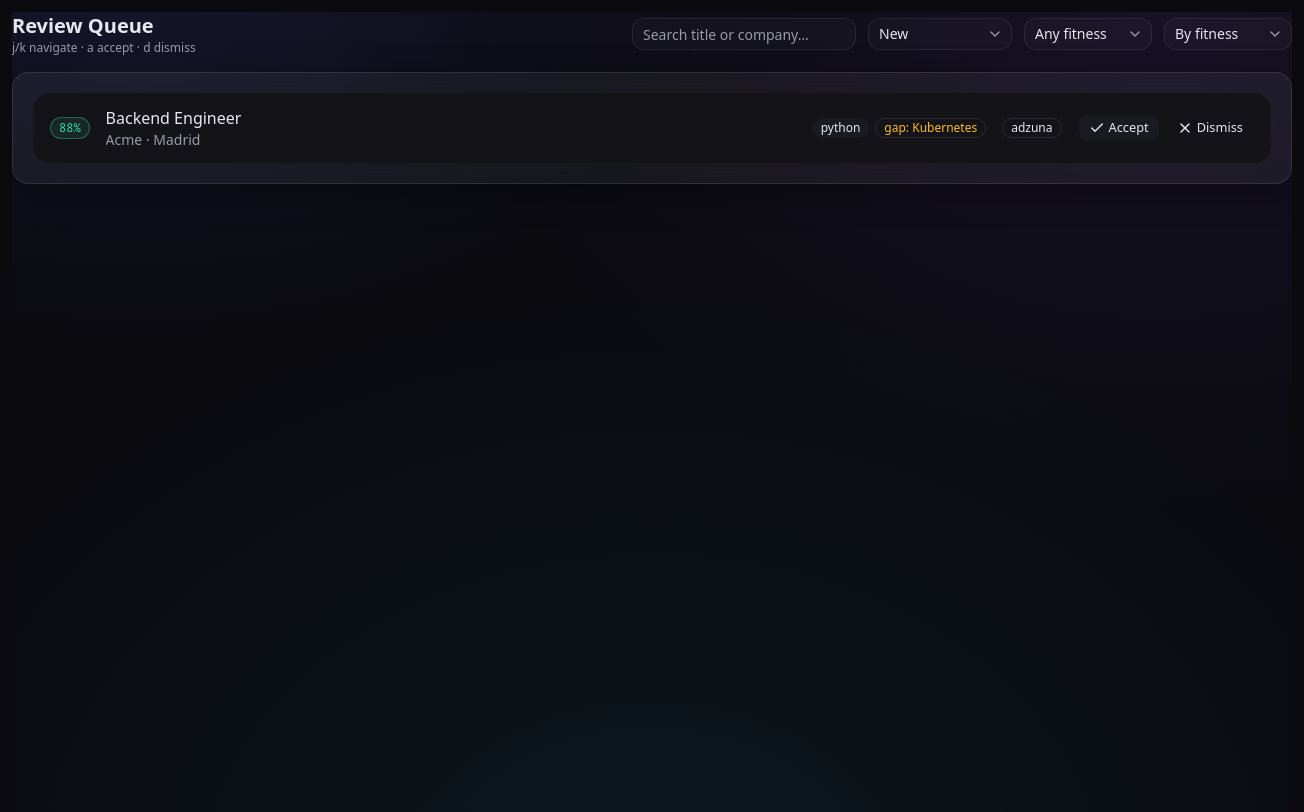
Test: dismiss removes the row optimistically, before the server responds
Expected: the link "Backend Engineer" is shown, [106,107,241,129]
What coordinates should you click on to do the following:
click the button "Dismiss"
I would click on:
 (1210, 128)
Its box is [1166,114,1254,142].
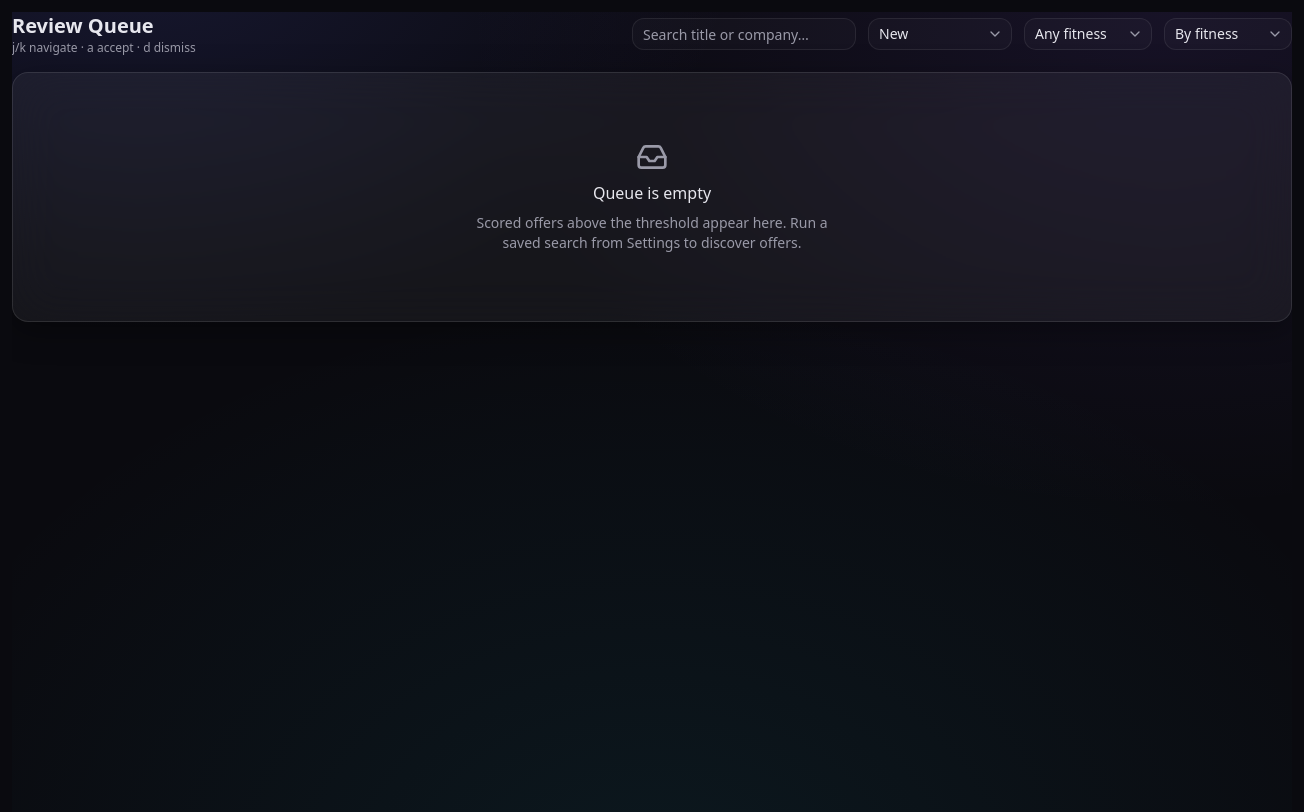
Expected: the link "Backend Engineer" is gone
